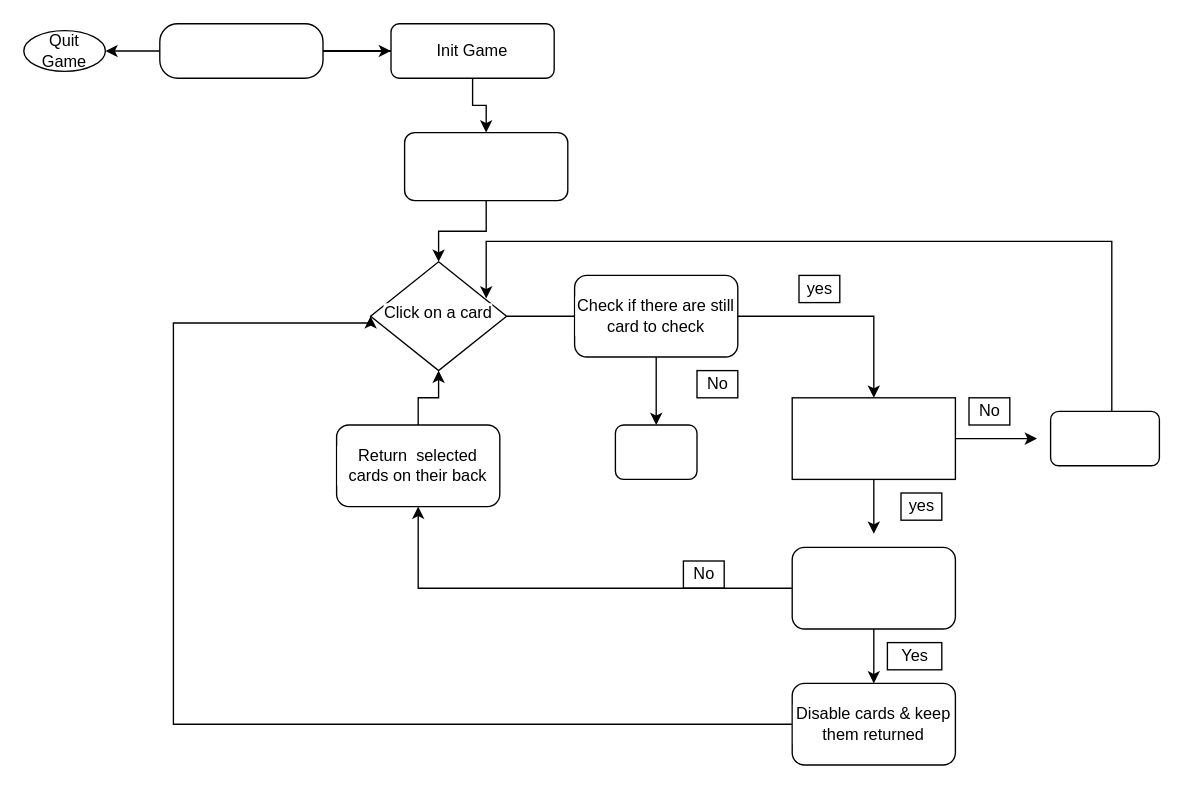
This 1183x789 diagram has some shape labels left out. Each missing label, with the box of its shape:
Are 2 cards returned ?: (791, 396, 955, 479)
Check if matching pair: (791, 546, 955, 629)
Create Cards from CARD class and give them ID: (403, 131, 568, 201)
Return Selected Card: (1049, 410, 1159, 466)
Welcome message and game option: (158, 22, 323, 78)
You win !: (614, 424, 697, 479)
